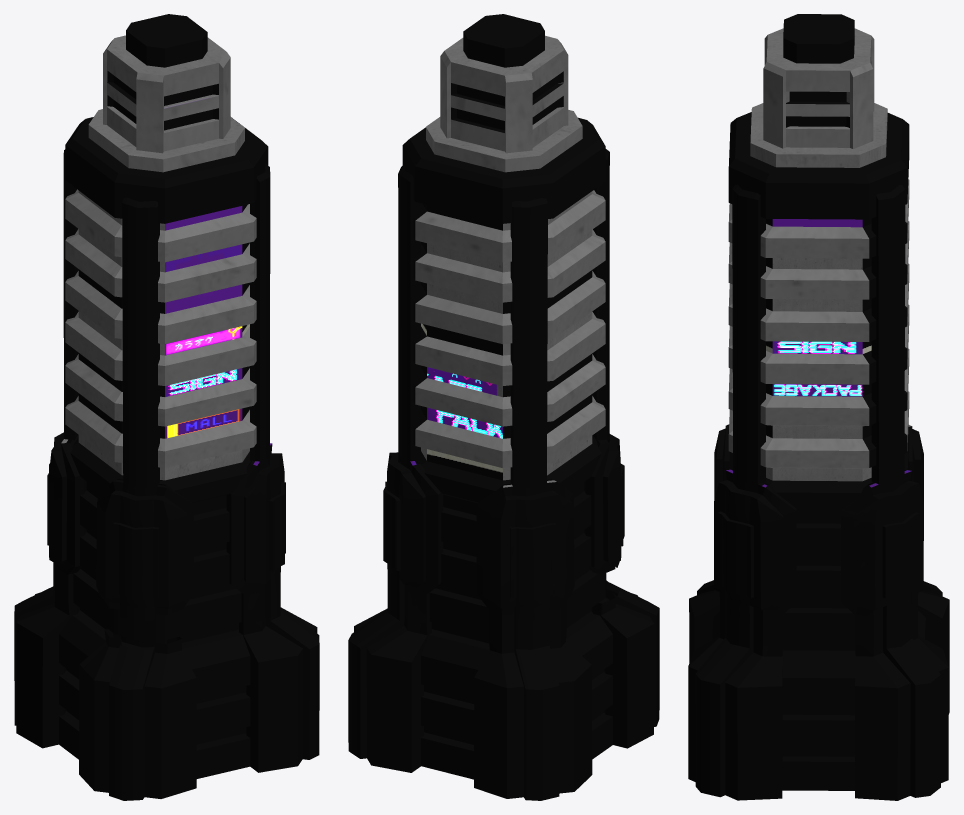
File: Building7.fbx
3 renders of one model, left to right at view 1: azimuth 30°, elevation 25°; view 2: azimuth 150°, elevation 25°; view 3: azimuth 270°, elevation 25°, orthographic.
Visible parts, largest first — view 1: Cube.035; view 2: Cube.035; view 3: Cube.035.
Boxes of the visible parts, x1,y1,x2,y2 form: Cube.035: (14,14,319,800); Cube.035: (348,14,659,800); Cube.035: (688,14,949,800).
Bounding box in the file's own units: 11.5 × 34.78 × 11.5.
